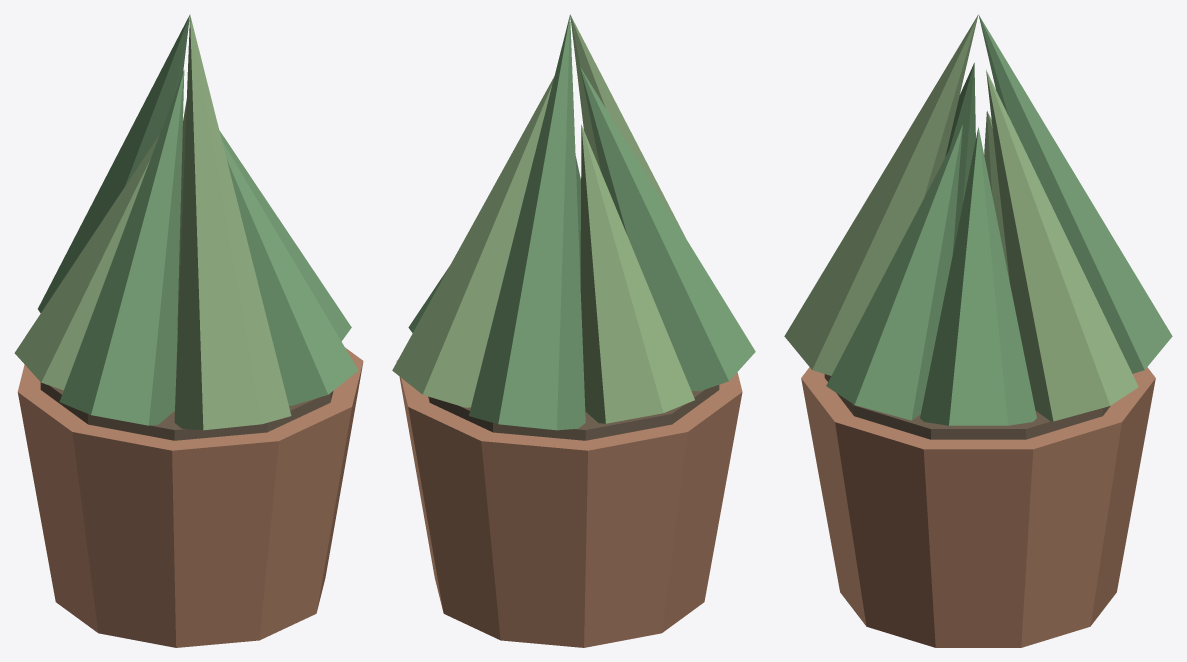
The model's file is pla_samambaia2.glb.
The picture shows the model from 3 angles, left to right: view 1: azimuth 30°, elevation 25°; view 2: azimuth 150°, elevation 25°; view 3: azimuth 270°, elevation 25°; orthographic projection.
Parts seen in each view (by area): view 1: PLA_SAMAMBAIA2_v01; view 2: PLA_SAMAMBAIA2_v01; view 3: PLA_SAMAMBAIA2_v01.
Part boxes in pixels (left/top/right/bottom): PLA_SAMAMBAIA2_v01: left=14, top=14, right=363, bottom=647; PLA_SAMAMBAIA2_v01: left=392, top=14, right=755, bottom=647; PLA_SAMAMBAIA2_v01: left=784, top=14, right=1172, bottom=647.
Size of the model in its own units: 0.2862 by 0.5394 by 0.3284.
